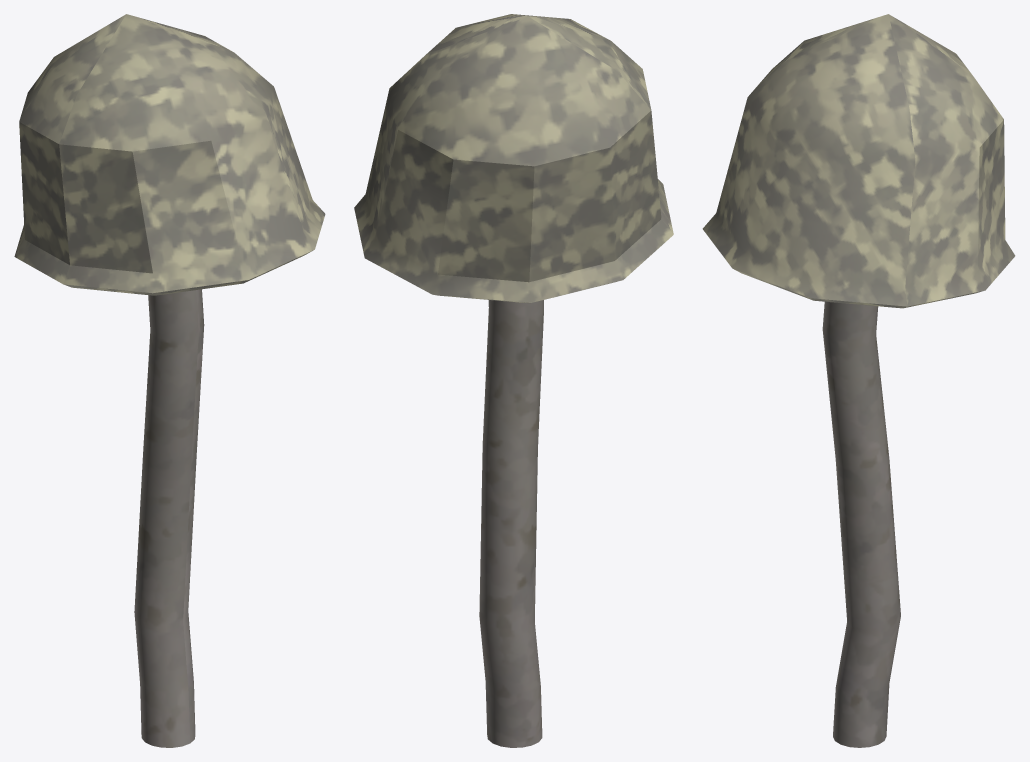
Rendered from Sm_Fungus3.fbx.
The picture shows the model from 3 angles, left to right: view 1: azimuth 30°, elevation 25°; view 2: azimuth 150°, elevation 25°; view 3: azimuth 270°, elevation 25°; orthographic projection. The views are drawn at different scales.
Visible parts, largest first — view 1: Sm_Fungus3; view 2: Sm_Fungus3; view 3: Sm_Fungus3.
Part boxes in pixels (<box>): Sm_Fungus3: <box>14,14,325,747</box>; Sm_Fungus3: <box>354,14,673,747</box>; Sm_Fungus3: <box>702,14,1015,747</box>.
Bounding box in the file's own units: 13.88 × 36.32 × 14.53.
